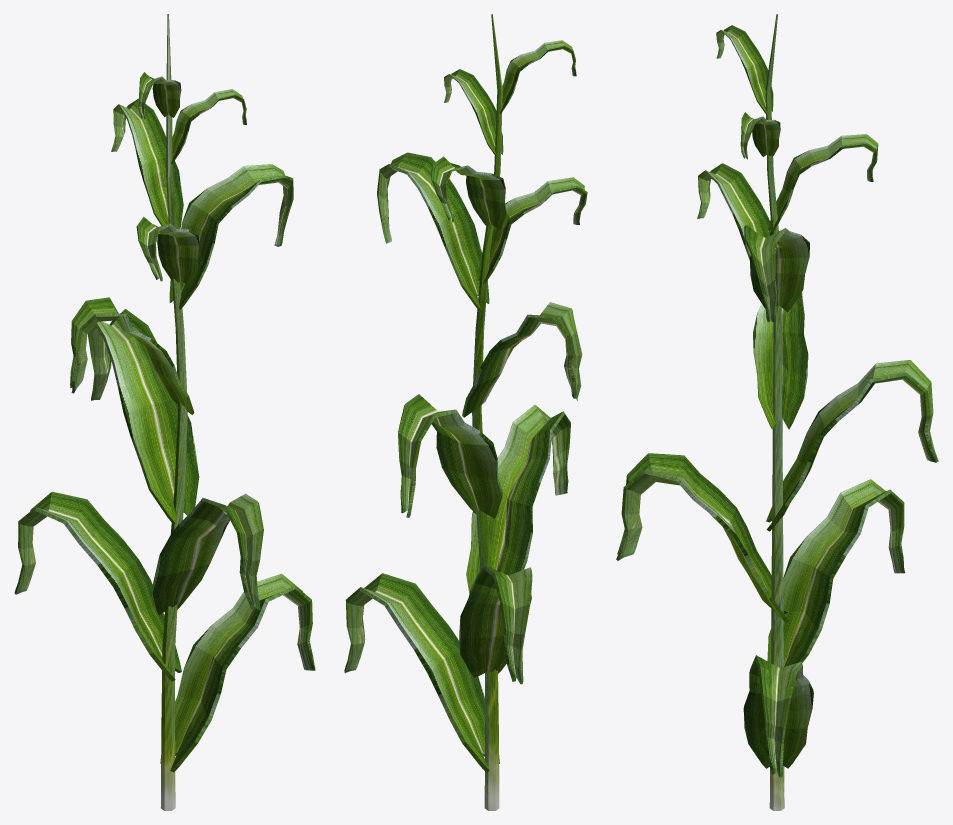
The model's file is Corn-LowPoly.fbx.
3 renders of one model, left to right at view 1: azimuth 30°, elevation 25°; view 2: azimuth 150°, elevation 25°; view 3: azimuth 270°, elevation 25°, orthographic.
Visible parts, largest first — view 1: Plane.018, Plane.019, Plane.011, Plane.016, Cylinder.001, Plane.015, Plane.014, Plane.017, Plane.013, Plane.012, Plane.010; view 2: Plane.019, Plane.016, Plane.018, Plane.011, Plane.015, Cylinder.001, Plane.017, Plane.014, Plane.013, Plane.012, Plane.010; view 3: Plane.011, Plane.016, Plane.019, Cylinder.001, Plane.018, Plane.017, Plane.015, Plane.013, Plane.014, Plane.010, Plane.012.
Boxes of the visible parts, x1=… form: Plane.018: x1=87, y1=309, x2=199, y2=524; Plane.019: x1=160, y1=573, x2=315, y2=772; Plane.011: x1=14, y1=491, x2=181, y2=681; Plane.016: x1=151, y1=493, x2=263, y2=614; Cylinder.001: x1=160, y1=14, x2=187, y2=810; Plane.015: x1=169, y1=164, x2=293, y2=309; Plane.014: x1=111, y1=99, x2=183, y2=228; Plane.017: x1=70, y1=297, x2=194, y2=414; Plane.013: x1=136, y1=216, x2=199, y2=285; Plane.012: x1=171, y1=89, x2=246, y2=164; Plane.010: x1=138, y1=72, x2=181, y2=118; Plane.019: x1=344, y1=573, x2=499, y2=772; Plane.016: x1=466, y1=405, x2=570, y2=593; Plane.018: x1=398, y1=394, x2=503, y2=518; Plane.011: x1=459, y1=564, x2=532, y2=684; Plane.015: x1=377, y1=152, x2=489, y2=310; Cylinder.001: x1=472, y1=14, x2=502, y2=810; Plane.017: x1=462, y1=302, x2=582, y2=417; Plane.014: x1=431, y1=156, x2=506, y2=229; Plane.013: x1=478, y1=177, x2=587, y2=283; Plane.012: x1=444, y1=69, x2=503, y2=156; Plane.010: x1=499, y1=40, x2=576, y2=113; Plane.011: x1=767, y1=479, x2=905, y2=666; Plane.016: x1=616, y1=453, x2=788, y2=622; Plane.019: x1=743, y1=655, x2=813, y2=777; Cylinder.001: x1=765, y1=14, x2=784, y2=810; Plane.018: x1=766, y1=360, x2=938, y2=531; Plane.017: x1=753, y1=292, x2=808, y2=429; Plane.015: x1=744, y1=225, x2=809, y2=322; Plane.013: x1=697, y1=163, x2=771, y2=260; Plane.014: x1=768, y1=134, x2=878, y2=235; Plane.010: x1=716, y1=25, x2=773, y2=114; Plane.012: x1=740, y1=112, x2=780, y2=159.
Bounding box in the file's own units: 63.44 × 201 × 73.95.
1 material, 1 textured.
